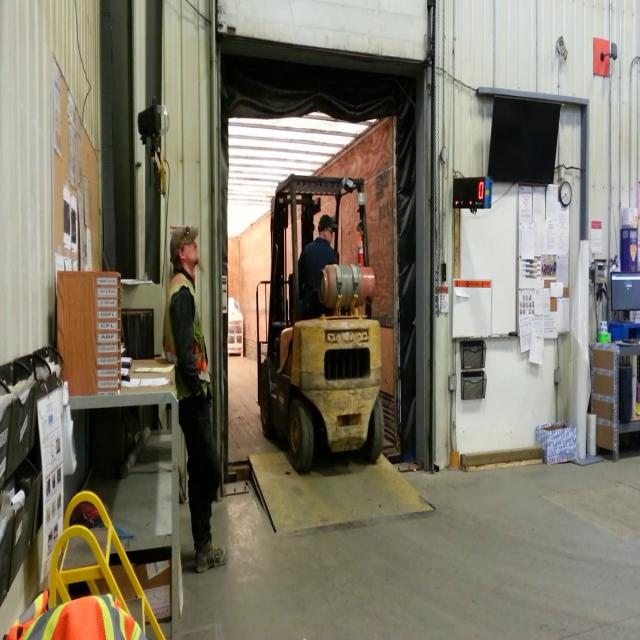Chariot elevateur: (258, 166, 389, 476)
